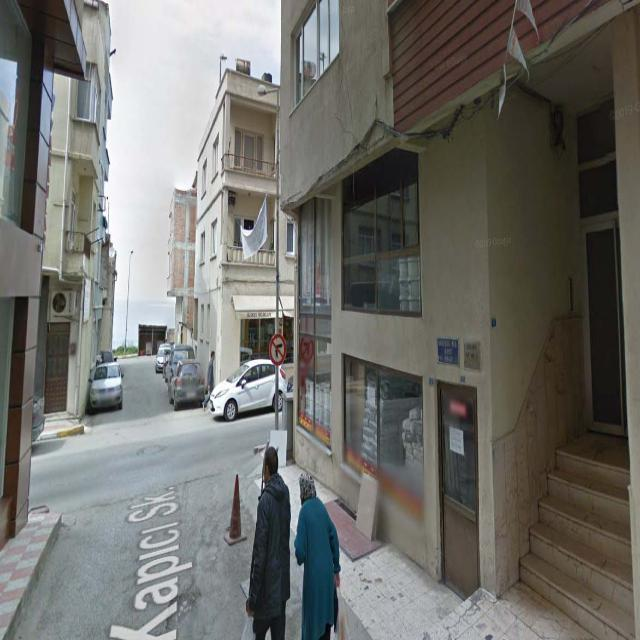sagadonulmez: (270, 334, 285, 366)
